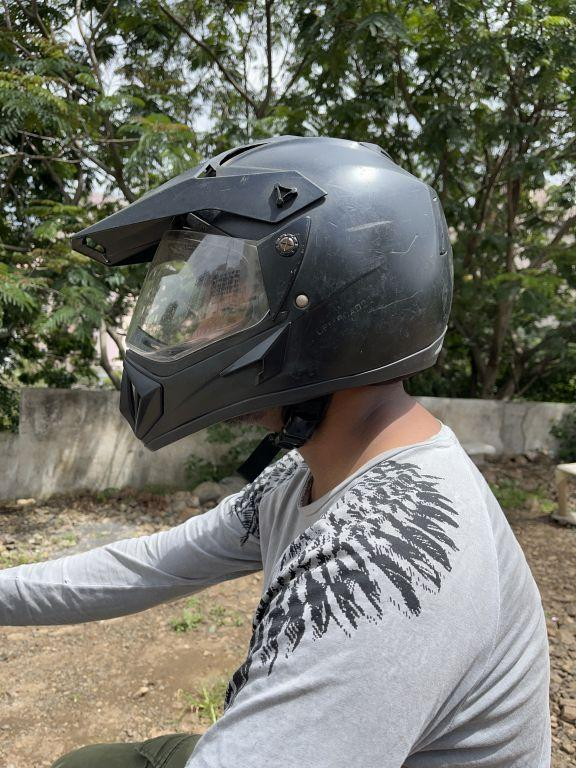helmet: (65, 127, 454, 454)
